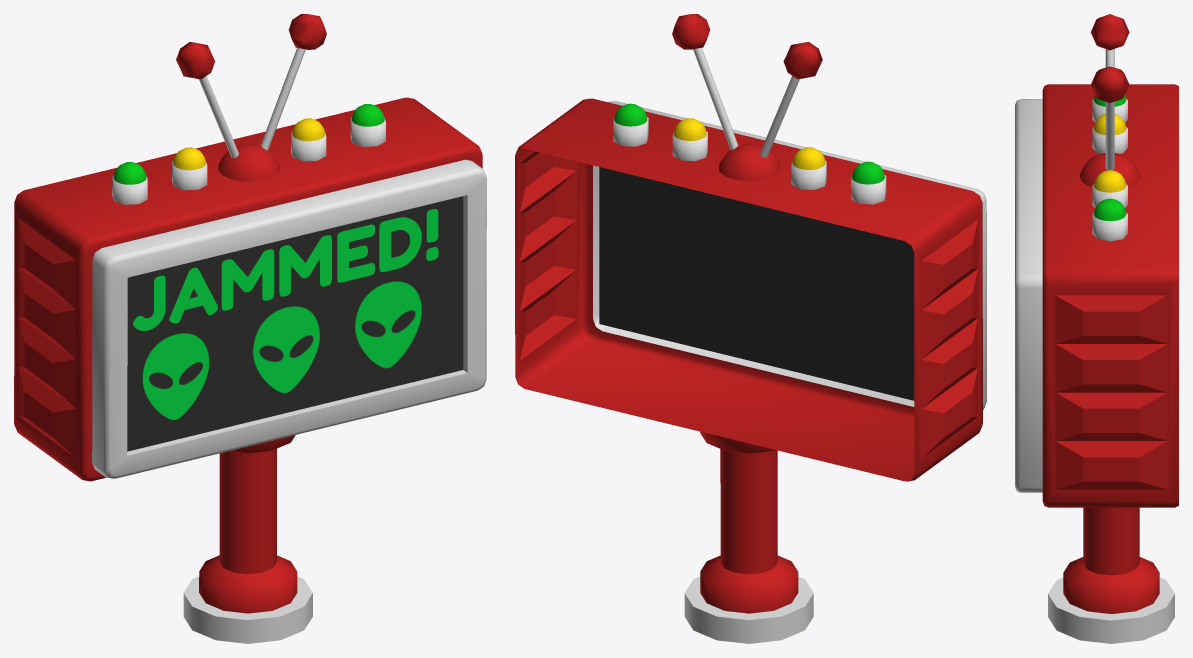
Rendered from scanner.gltf.
3 renders of one model, left to right at view 1: azimuth 30°, elevation 25°; view 2: azimuth 150°, elevation 25°; view 3: azimuth 270°, elevation 25°, orthographic.
Visible parts, largest first — view 1: Scanner Body Less Backface, close, jammed, alien01, alien02, alien03, Cylinder.001, Cylinder, Cube.005, green_light02, yellow_light02, green_light01 (+1 smaller); view 2: Scanner Body Less Backface, close, Cylinder.001, Cylinder, Cube.005, green_light02, yellow_light01, yellow_light02, green_light01; view 3: Scanner Body Less Backface, Cylinder.001, green_light02, Cylinder, Cube.005, yellow_light02, yellow_light01, green_light01.
Boxes of the visible parts, bbox=[...] form: Scanner Body Less Backface: bbox=[14, 97, 486, 643]; close: bbox=[127, 196, 463, 451]; jammed: bbox=[133, 208, 438, 330]; alien01: bbox=[142, 333, 209, 420]; alien02: bbox=[253, 306, 319, 393]; alien03: bbox=[355, 281, 421, 368]; Cylinder.001: bbox=[260, 14, 326, 150]; Cylinder: bbox=[176, 42, 238, 158]; Cube.005: bbox=[218, 143, 279, 181]; green_light02: bbox=[350, 104, 385, 146]; yellow_light02: bbox=[291, 118, 326, 161]; green_light01: bbox=[112, 162, 147, 204]; Scanner Body Less Backface: bbox=[515, 98, 986, 643]; close: bbox=[599, 167, 914, 400]; Cylinder.001: bbox=[672, 14, 738, 150]; Cylinder: bbox=[760, 42, 822, 157]; Cube.005: bbox=[718, 143, 780, 181]; green_light02: bbox=[613, 103, 648, 146]; yellow_light01: bbox=[791, 147, 826, 189]; yellow_light02: bbox=[672, 118, 707, 161]; green_light01: bbox=[851, 161, 886, 204]; Scanner Body Less Backface: bbox=[1015, 84, 1178, 643]; Cylinder.001: bbox=[1090, 66, 1129, 170]; green_light02: bbox=[1092, 198, 1127, 241]; Cylinder: bbox=[1090, 14, 1129, 67]; Cube.005: bbox=[1079, 153, 1140, 186]; yellow_light02: bbox=[1092, 170, 1127, 208]; yellow_light01: bbox=[1092, 114, 1127, 153]; green_light01: bbox=[1092, 95, 1127, 122].
Size of the model in its own units: 4.93 by 6.62 by 1.7.
7 materials, 5 textured.
